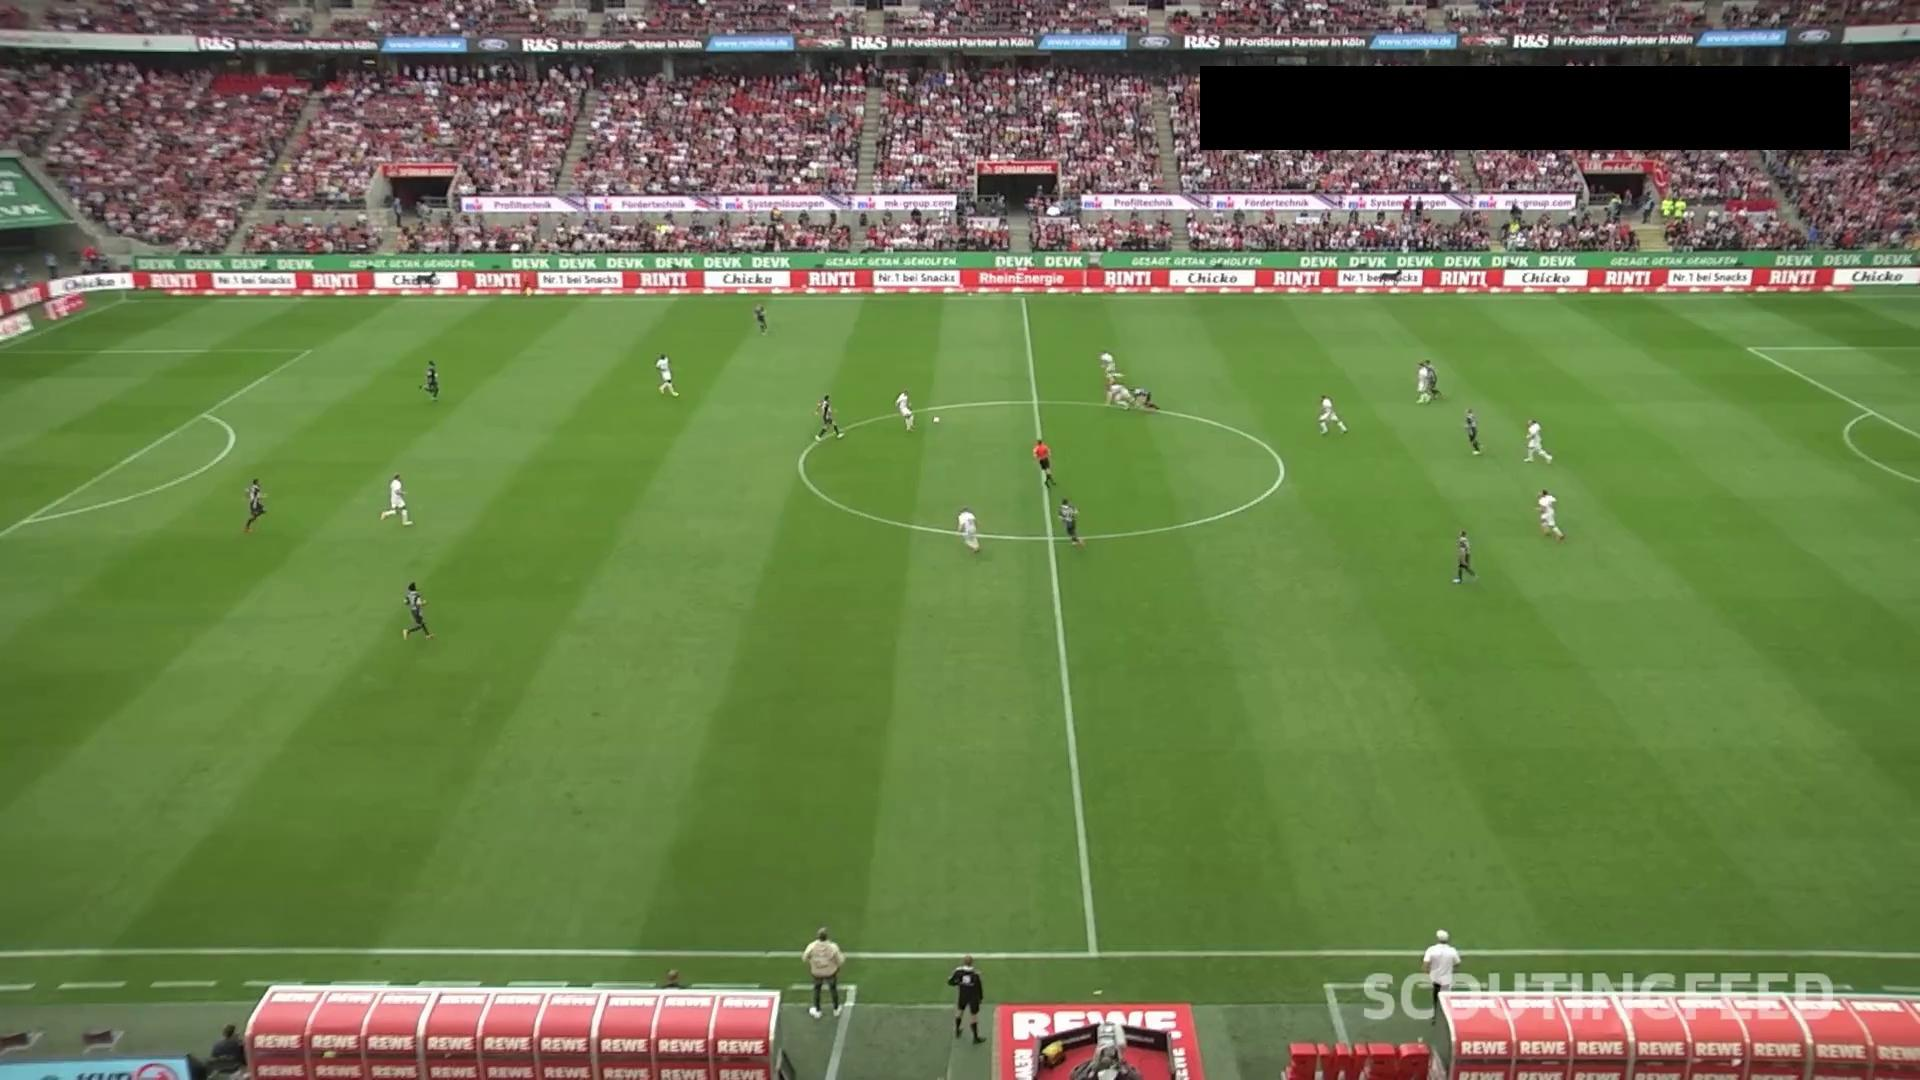Location-of-ball: (928, 411, 952, 429)
